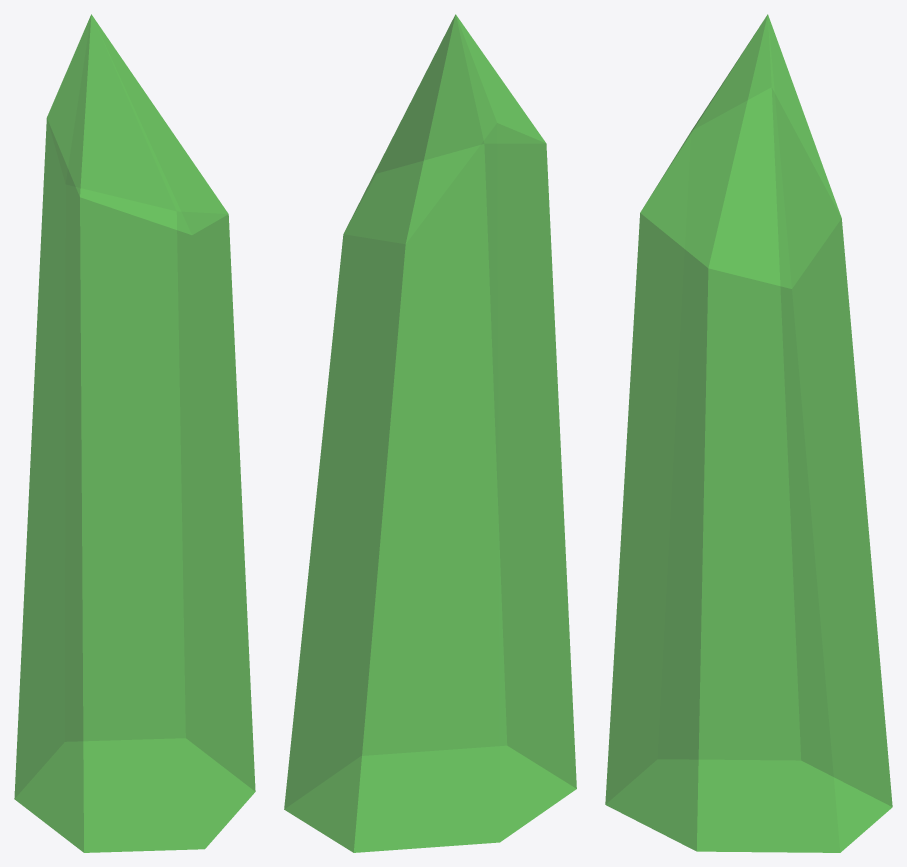
Rendered from Crsytal_2.fbx.
The picture shows the model from 3 angles, left to right: view 1: azimuth 30°, elevation 25°; view 2: azimuth 150°, elevation 25°; view 3: azimuth 270°, elevation 25°; orthographic projection. The views are drawn at different scales.
Visible parts, largest first — view 1: Cube; view 2: Cube; view 3: Cube.
Boxes of the visible parts, x1,y1,x2,y2 form: Cube: (14,14,255,852); Cube: (284,14,576,852); Cube: (605,14,892,852).
Size of the model in its own units: 26.59 by 103 by 34.43.
